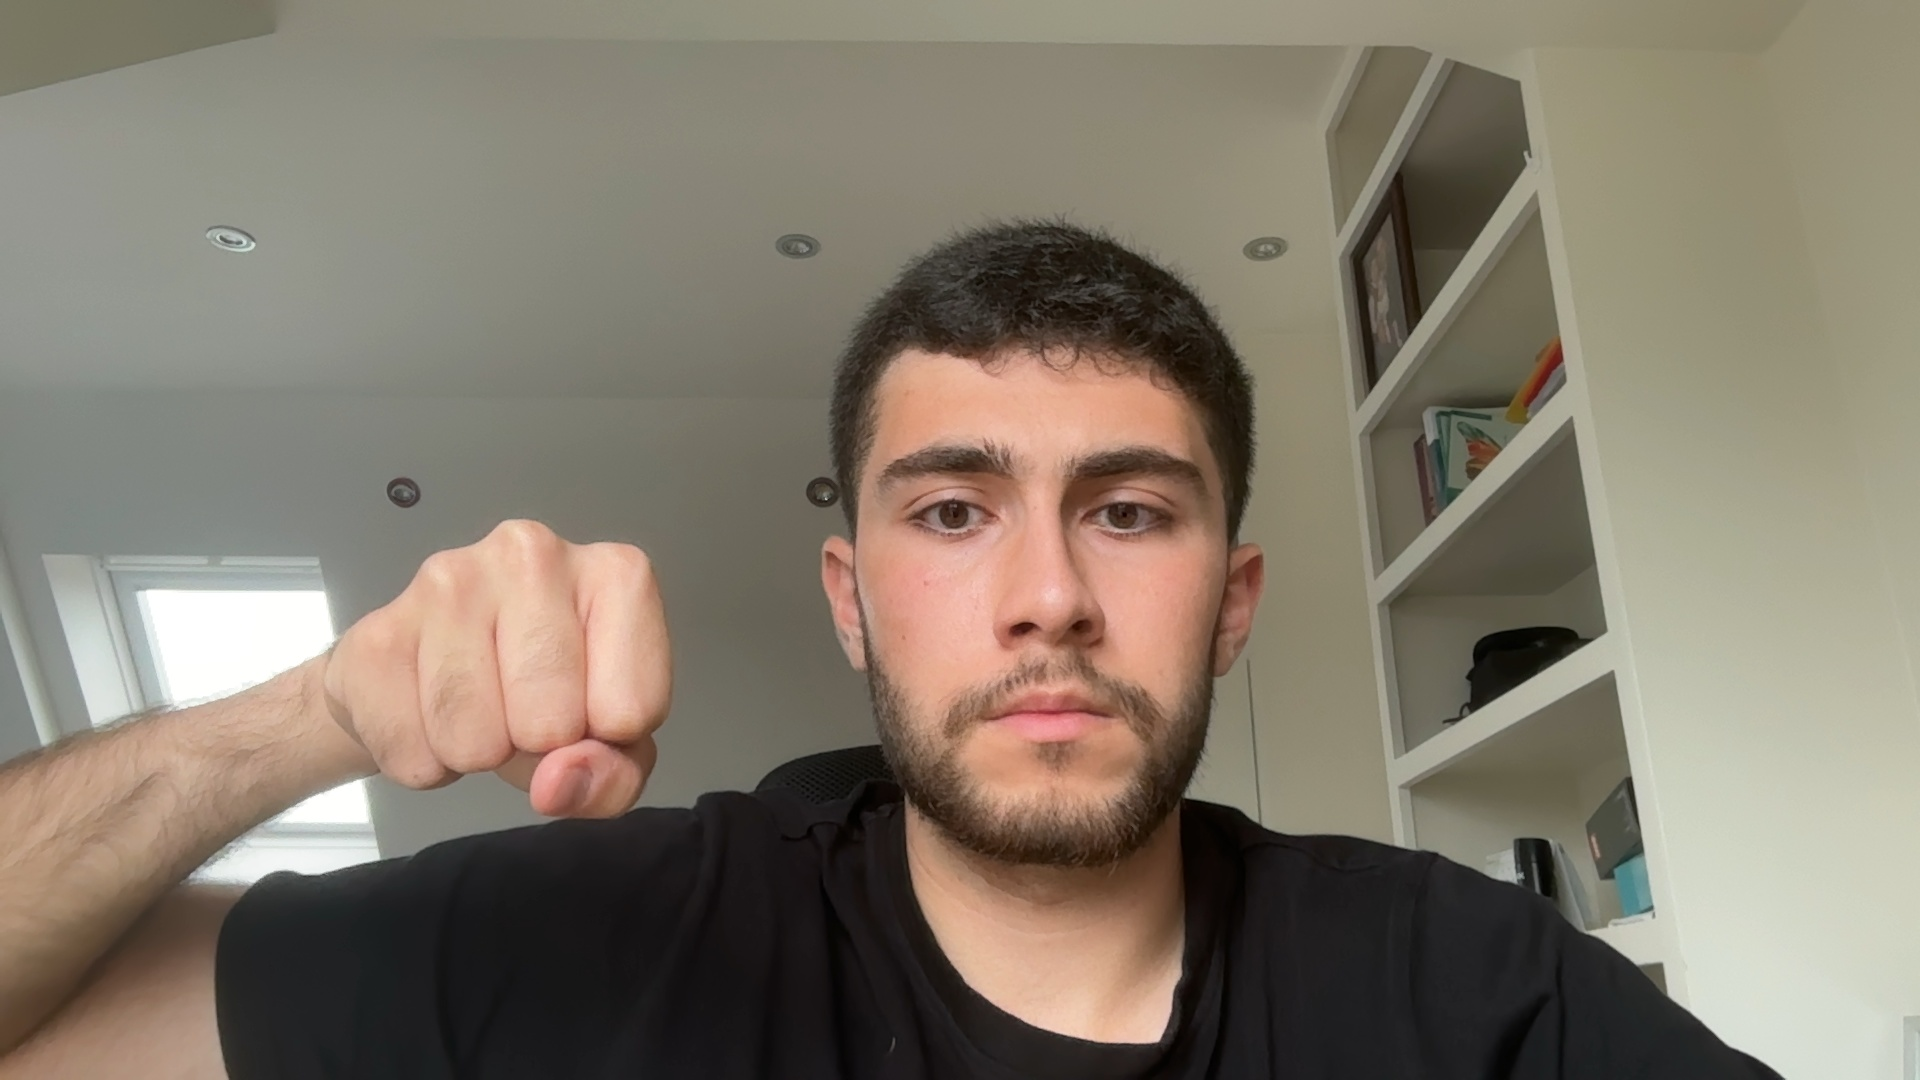yes: (287, 497, 723, 862)
